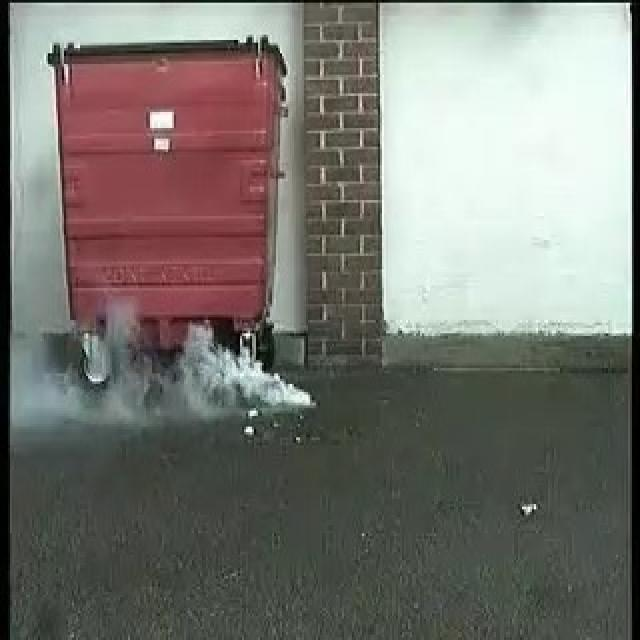smoke: (170, 316, 313, 408)
